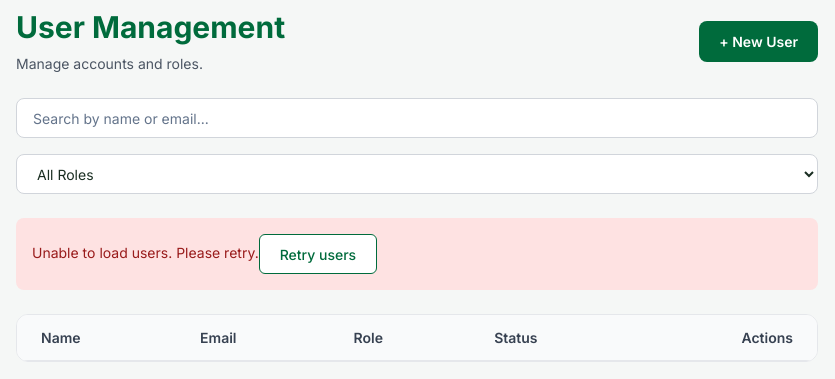
Test: shows safe list failure with retry instead of a false empty result
Expected: the message does not show "PRIVATE", [16,218,818,290]
Step 1. Click the button "Retry users" → (318, 254), box [259,234,377,274]
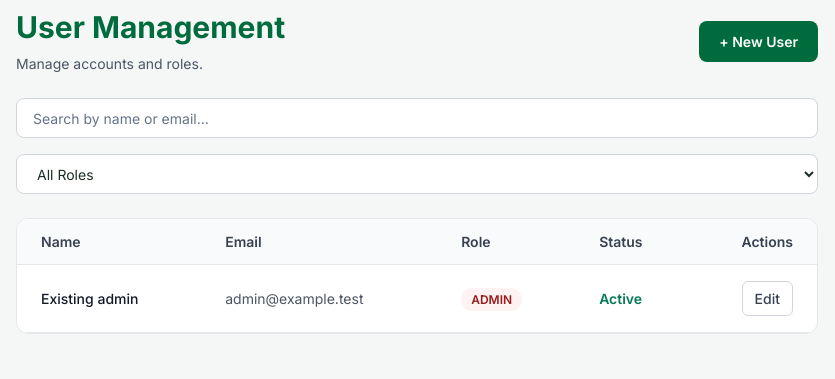
Expected: the text "Existing admin" is shown, [17,264,201,332]
